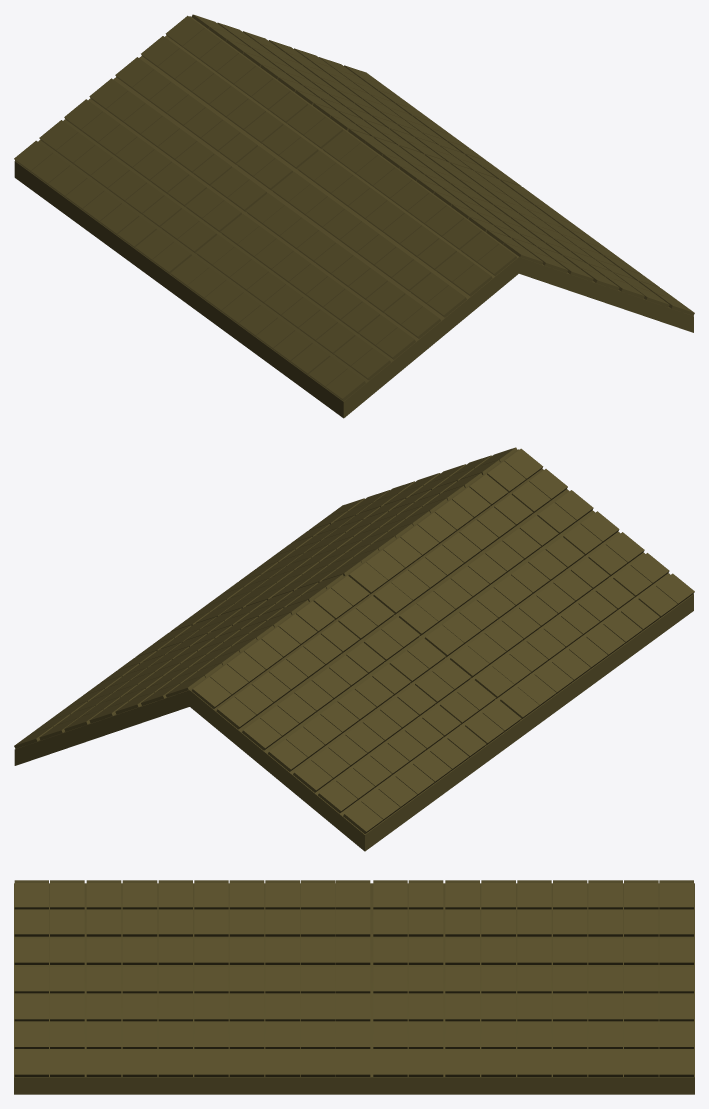
File: Roof_Prototype_1.fbx
3 views of the same model, one above another, from view 1: azimuth 30°, elevation 25°; view 2: azimuth 150°, elevation 25°; view 3: azimuth 270°, elevation 25° (orthographic). The views are drawn at different scales.
Parts seen in each view (by area): view 1: pCube1, RoofTile85, RoofTile123, RoofTile28, RoofTile66, RoofTile47, RoofTile104, RoofTile9, RoofTile84, RoofTile122, RoofTile29, RoofTile103 (+122 smaller); view 2: pCube1, RoofTile76, RoofTile114, RoofTile37, RoofTile57, RoofTile38, RoofTile95, RoofTile18, RoofTile19, RoofTile94, RoofTile113, RoofTile132 (+122 smaller); view 3: pCube1, RoofTile19, RoofTile20, RoofTile22, RoofTile25, RoofTile26, RoofTile30, RoofTile45, RoofTile49, RoofTile50, RoofTile53, RoofTile55 (+122 smaller).
Boxes of the visible parts, <box> form: pCube1: <box>14,16,693,418</box>; RoofTile85: <box>376,327,415,359</box>; RoofTile123: <box>326,369,365,400</box>; RoofTile28: <box>452,264,492,296</box>; RoofTile66: <box>401,306,440,338</box>; RoofTile47: <box>427,285,466,317</box>; RoofTile104: <box>351,348,390,380</box>; RoofTile9: <box>477,244,516,276</box>; RoofTile84: <box>202,200,241,232</box>; RoofTile122: <box>152,242,191,274</box>; RoofTile29: <box>279,137,318,169</box>; RoofTile103: <box>177,221,217,253</box>; pCube1: <box>14,449,693,851</box>; RoofTile76: <box>293,760,332,792</box>; RoofTile114: <box>343,802,382,833</box>; RoofTile37: <box>216,697,255,729</box>; RoofTile57: <box>268,739,307,771</box>; RoofTile38: <box>242,718,281,750</box>; RoofTile95: <box>318,781,357,813</box>; RoofTile18: <box>192,677,231,708</box>; RoofTile19: <box>373,582,412,614</box>; RoofTile94: <box>450,645,489,678</box>; RoofTile113: <box>475,666,514,698</box>; RoofTile132: <box>500,687,539,719</box>; pCube1: <box>14,883,694,1094</box>; RoofTile19: <box>335,910,370,936</box>; RoofTile20: <box>300,910,335,936</box>; RoofTile22: <box>229,910,264,936</box>; RoofTile25: <box>122,910,157,936</box>; RoofTile26: <box>86,910,121,936</box>; RoofTile30: <box>408,910,443,936</box>; RoofTile45: <box>408,938,443,964</box>; RoofTile49: <box>86,938,121,964</box>; RoofTile50: <box>122,938,157,964</box>; RoofTile53: <box>229,938,264,964</box>; RoofTile55: <box>300,938,335,964</box>.
Bounding box in the file's own units: 4.13 × 1.34 × 6.67.
